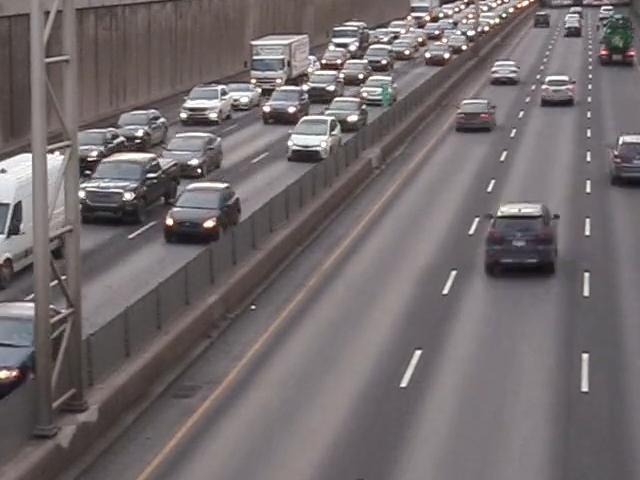car: (0, 303, 76, 397), (82, 154, 182, 225), (479, 202, 562, 279), (162, 178, 248, 245), (163, 130, 227, 179), (285, 115, 345, 164), (66, 128, 126, 169), (178, 83, 231, 124), (115, 109, 168, 149), (261, 87, 312, 125), (605, 133, 640, 186), (322, 96, 369, 134), (453, 98, 497, 130), (220, 82, 263, 113), (304, 69, 343, 103), (358, 75, 396, 109), (539, 75, 578, 105), (337, 59, 373, 89), (364, 45, 396, 71), (489, 60, 522, 85), (319, 46, 351, 71), (424, 42, 452, 65)
truck: (248, 33, 310, 93), (597, 10, 635, 65)
van: (0, 148, 90, 288)
